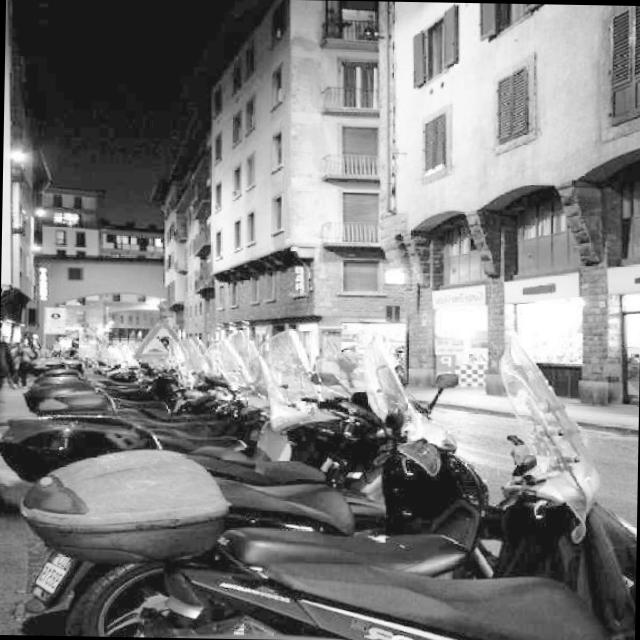Motorcycle: (0, 362, 638, 640), (0, 343, 459, 640), (0, 427, 638, 640), (27, 341, 464, 640), (0, 315, 374, 500)
